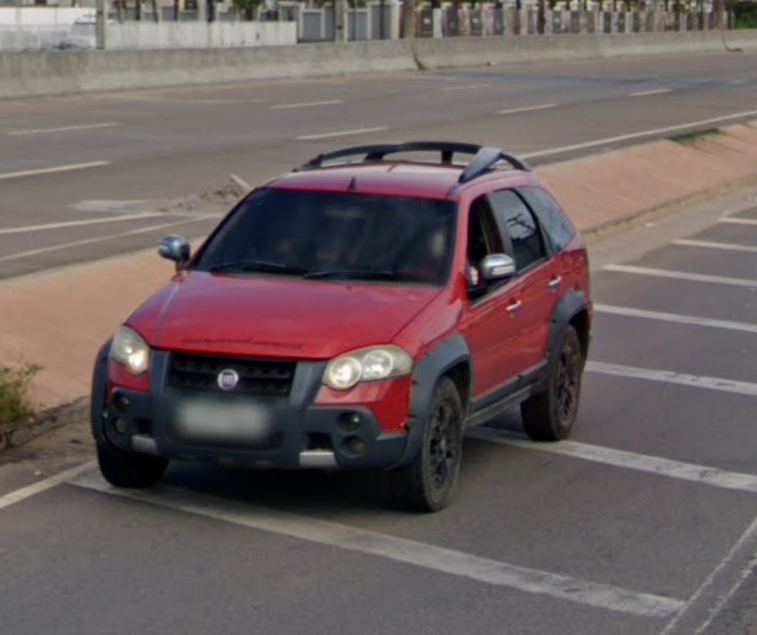car: (88, 136, 595, 516)
